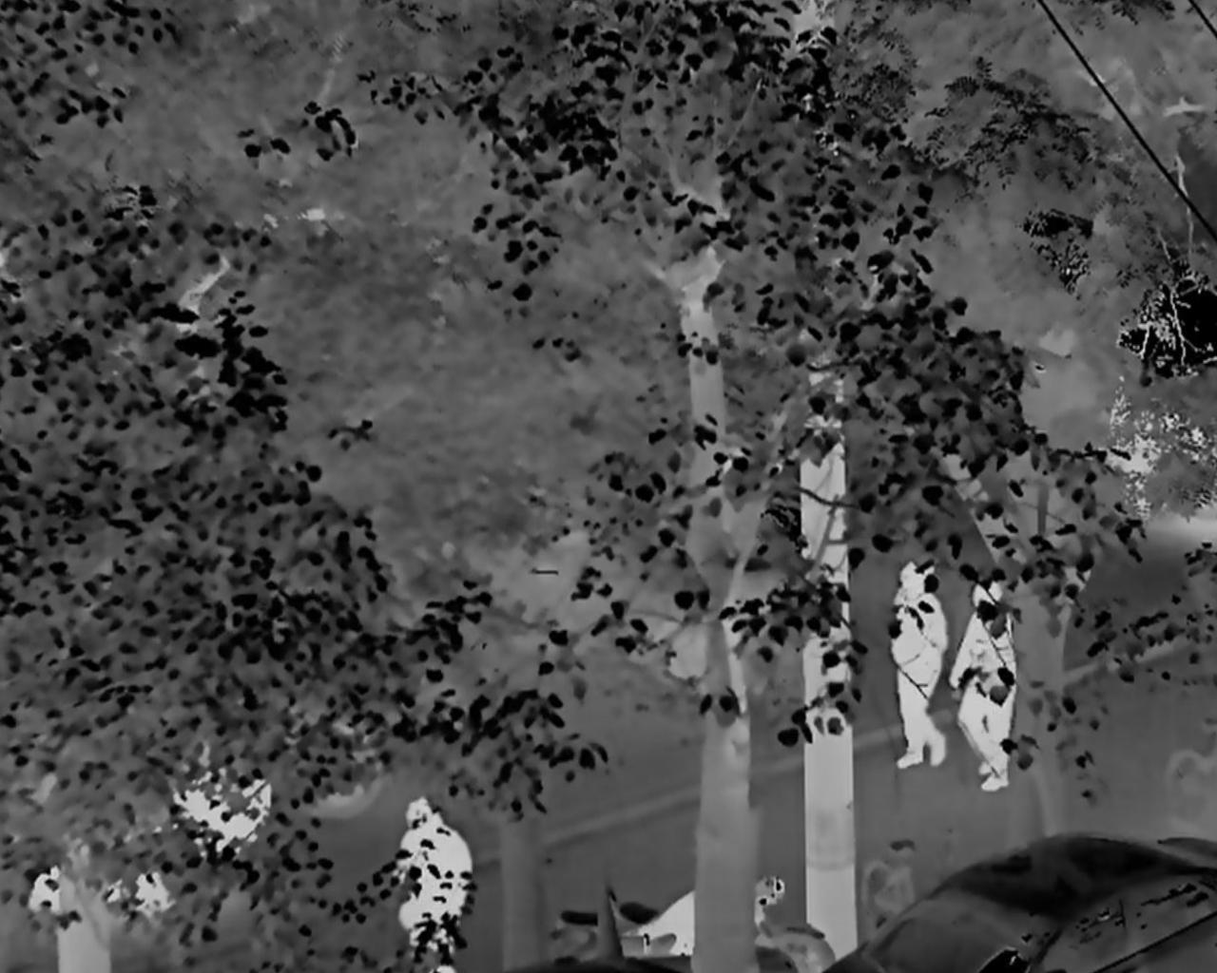person: (950, 581, 1017, 794), (395, 795, 474, 973), (889, 559, 947, 769)
